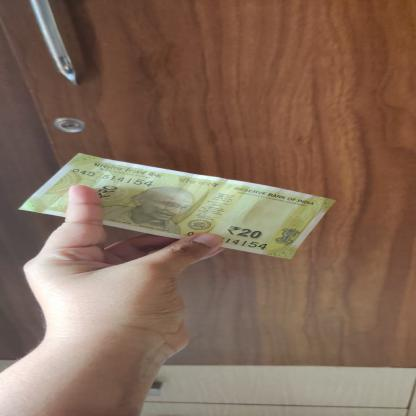New20Front: (18, 152, 337, 260)
